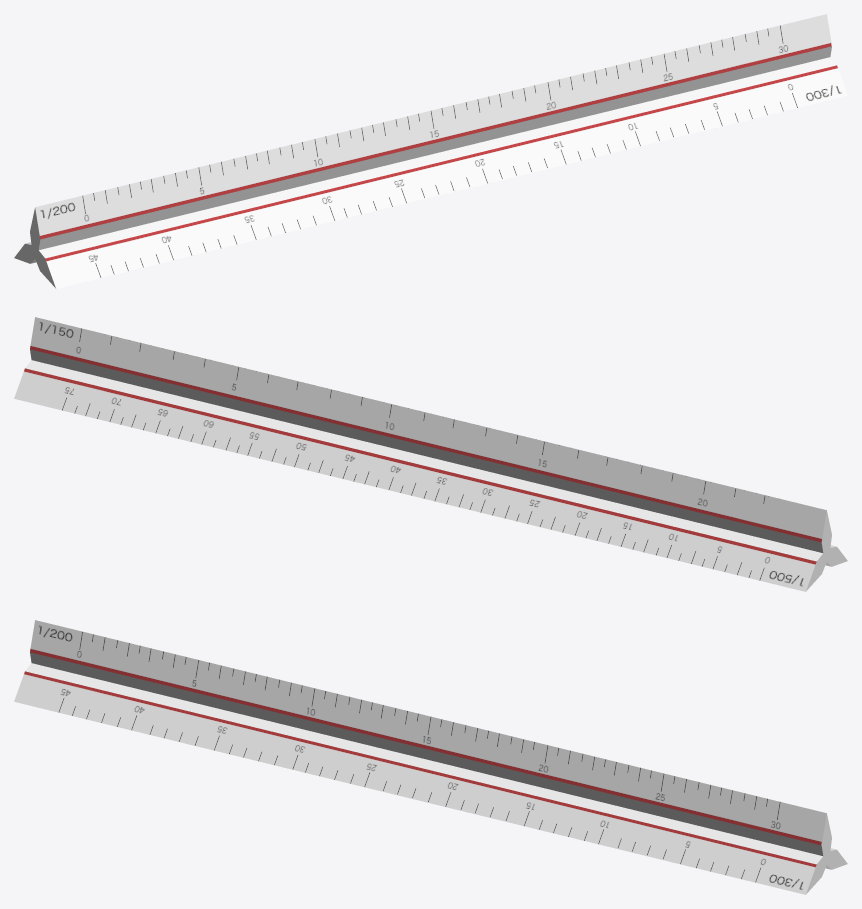
File: 423_三角スケール.glb
3 views of the same model, one above another, from view 1: azimuth 30°, elevation 25°; view 2: azimuth 150°, elevation 25°; view 3: azimuth 330°, elevation 25° (orthographic).
Visible parts, largest first — view 1: 423_三角スケール; view 2: 423_三角スケール; view 3: 423_三角スケール.
Boxes of the visible parts, x1=… form: 423_三角スケール: x1=14, y1=14, x2=847, y2=288; 423_三角スケール: x1=14, y1=317, x2=847, y2=591; 423_三角スケール: x1=14, y1=620, x2=847, y2=894.
Size of the model in its own units: 0.15 by 0.012 by 0.0139.
1 material, 1 textured.
